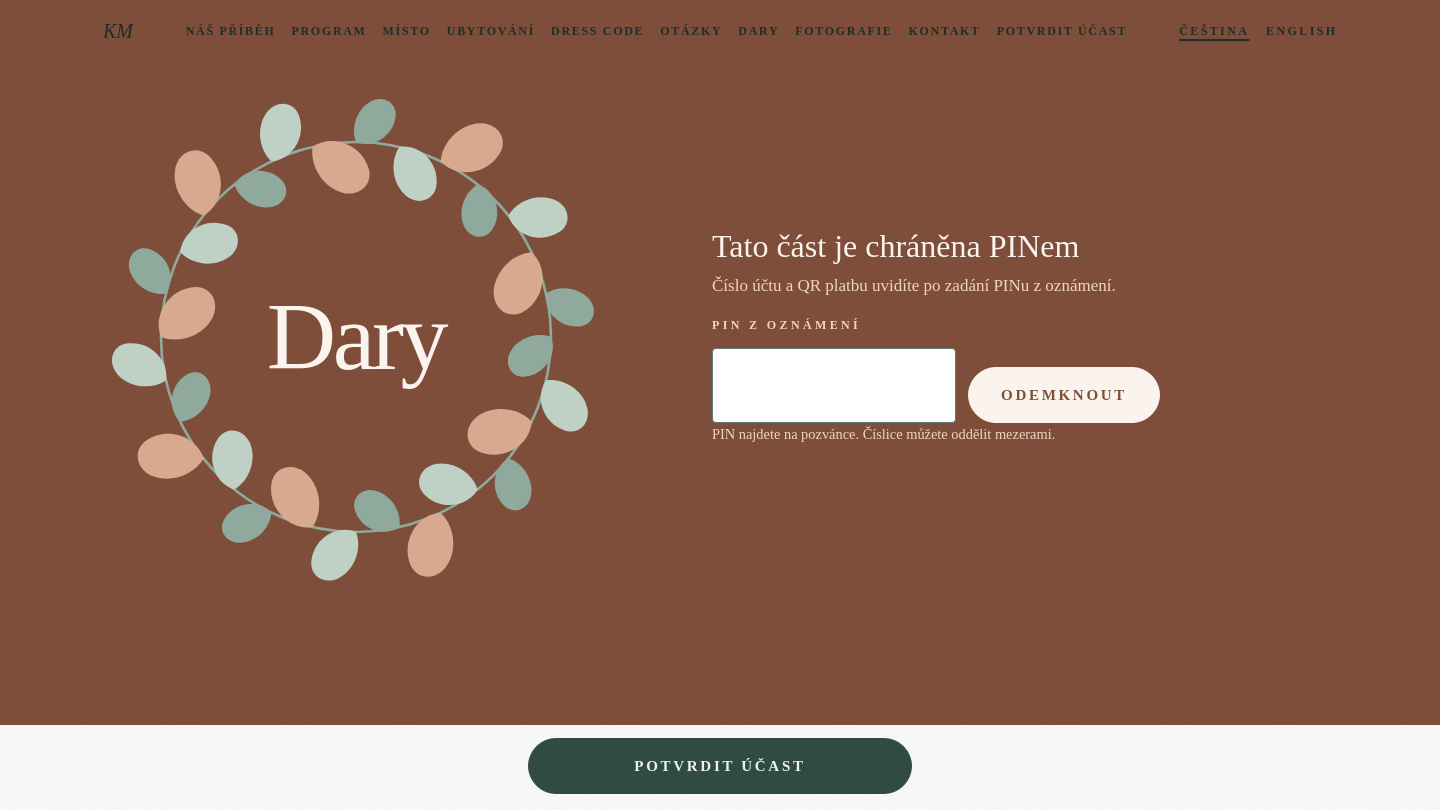
Scenario: SiteRenderer: dary za PINem (FR-PRIV-2) › chybný PIN: chyba slovy v živé oblasti, pole označené a zaměřené, nic se neodemkne
(page scrolled)
Type "123 456" into the password field labelled "PIN z oznámení". click: x=834, y=386
box: [712,348,956,423]
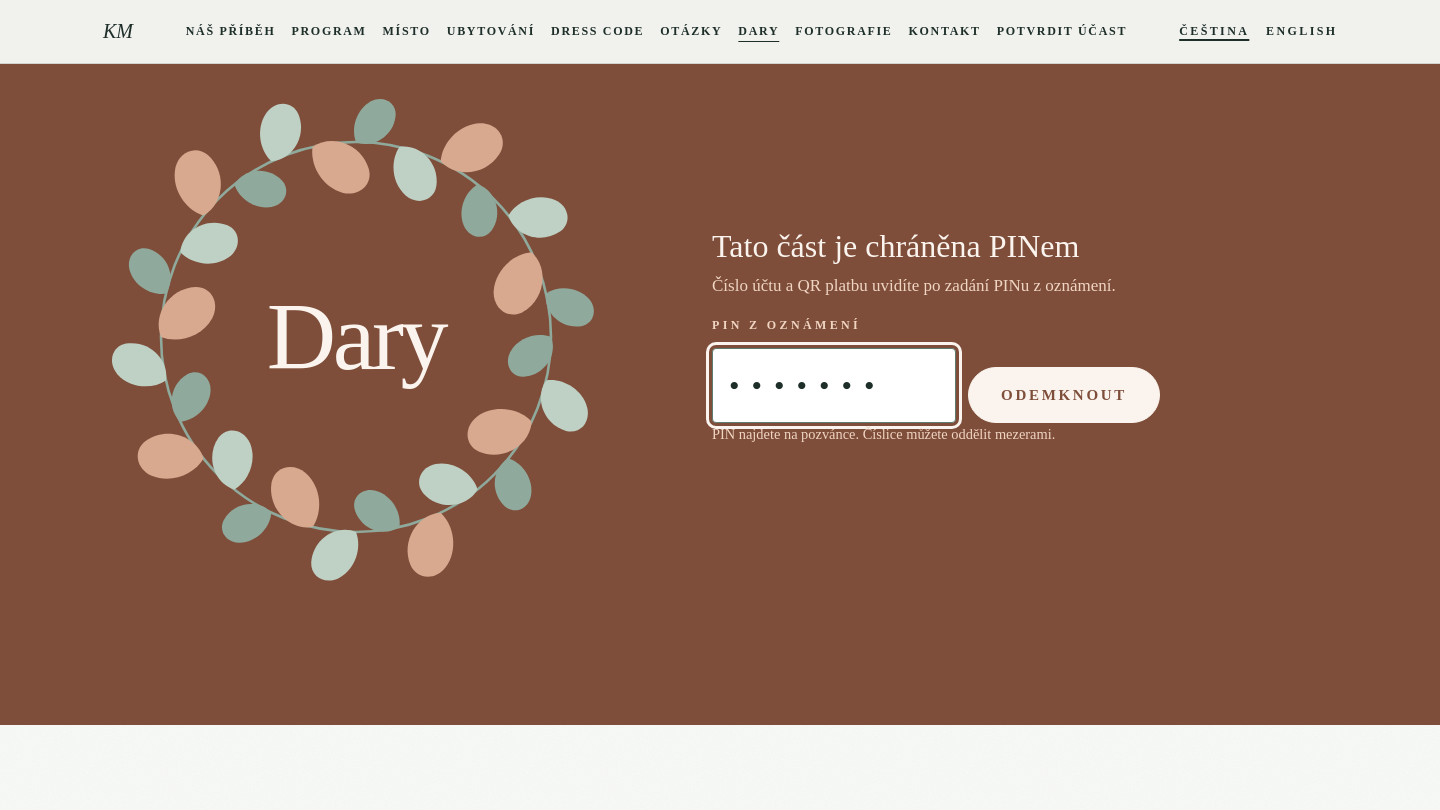
Click the button "Odemknout". click: x=1064, y=395
box: [968,367,1160,423]
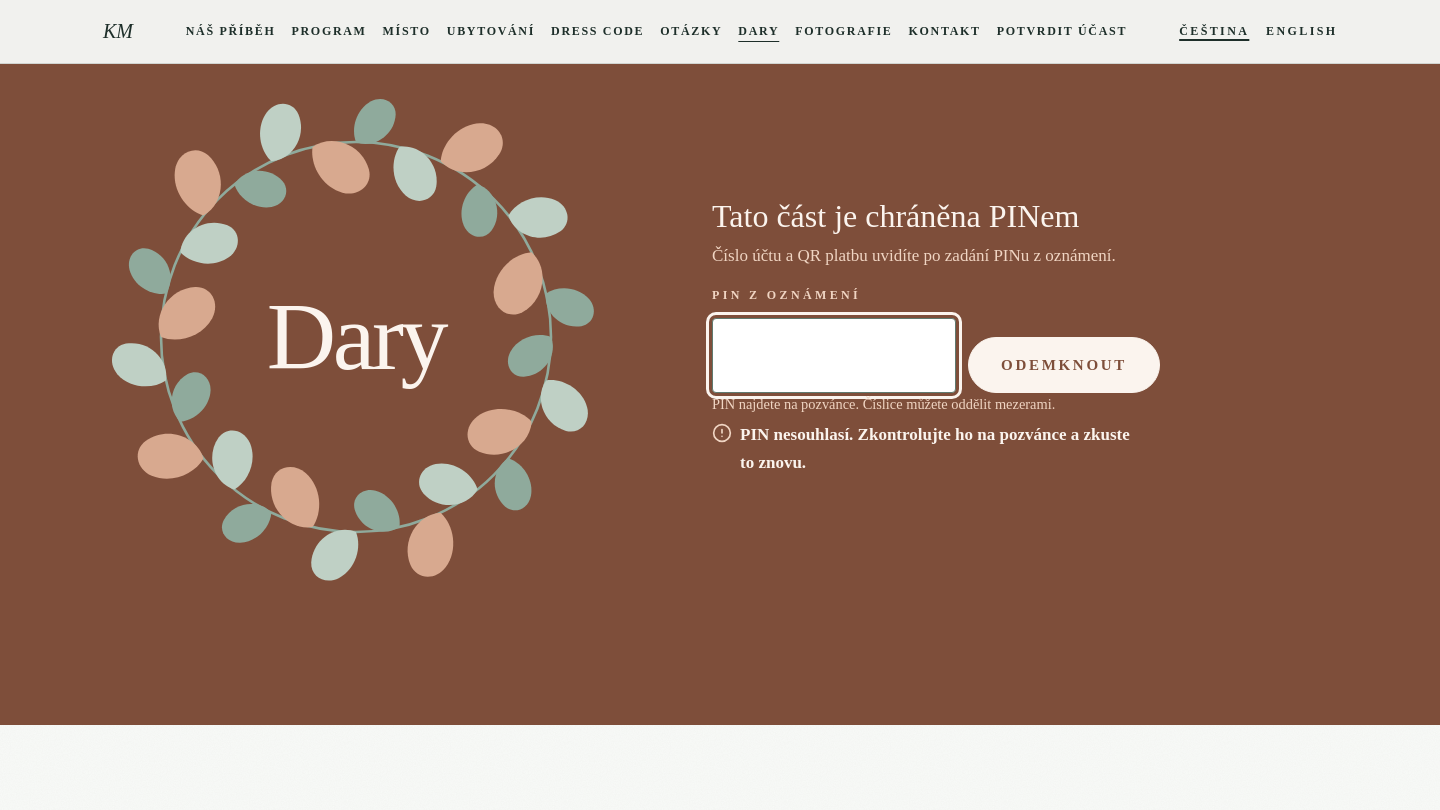
Expected: the message shows "PIN nesouhlasí", [740,425,1130,472]
